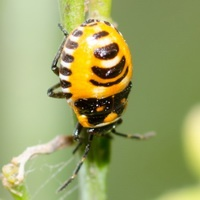insect: (48, 19, 147, 139)
